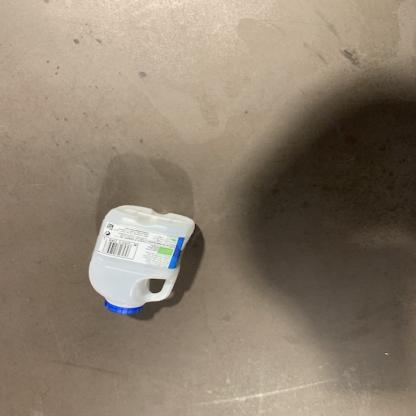trash: (90, 203, 196, 317)
